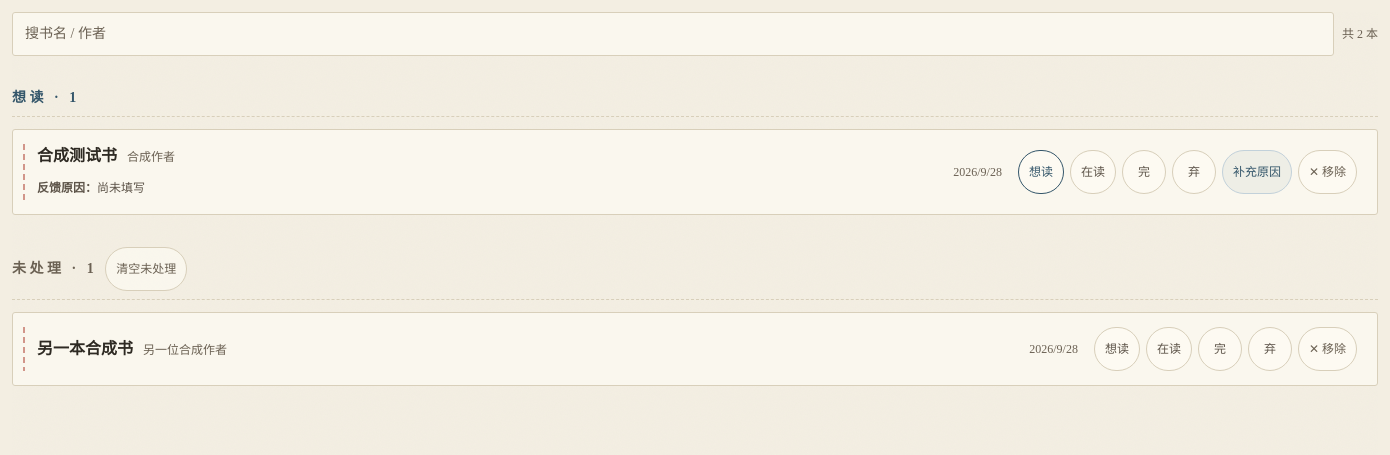
Scenario: 清理未处理:DELETE→重载 › 不离页的清理仍提示条数并重载(行为保留)
The width and height of the screenshot is (1390, 455).
Click the button with aria-label "清空全部未处理推荐".
click(146, 269)  # box [105,247,187,291]
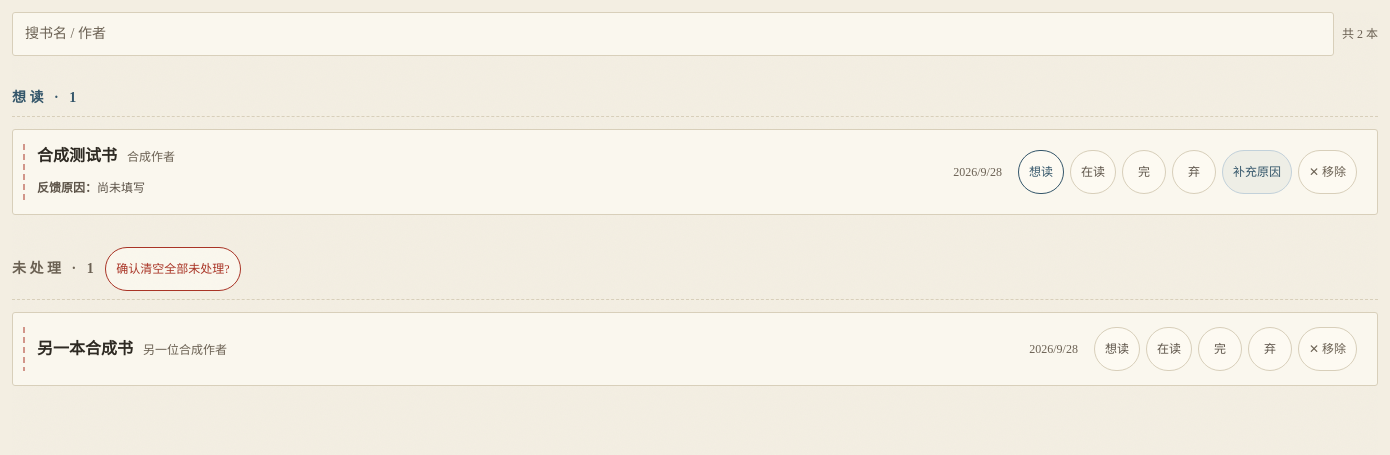
Click the button with aria-label "再次点击确认清空全部未处理推荐".
click(173, 269)  # box [105,247,240,291]
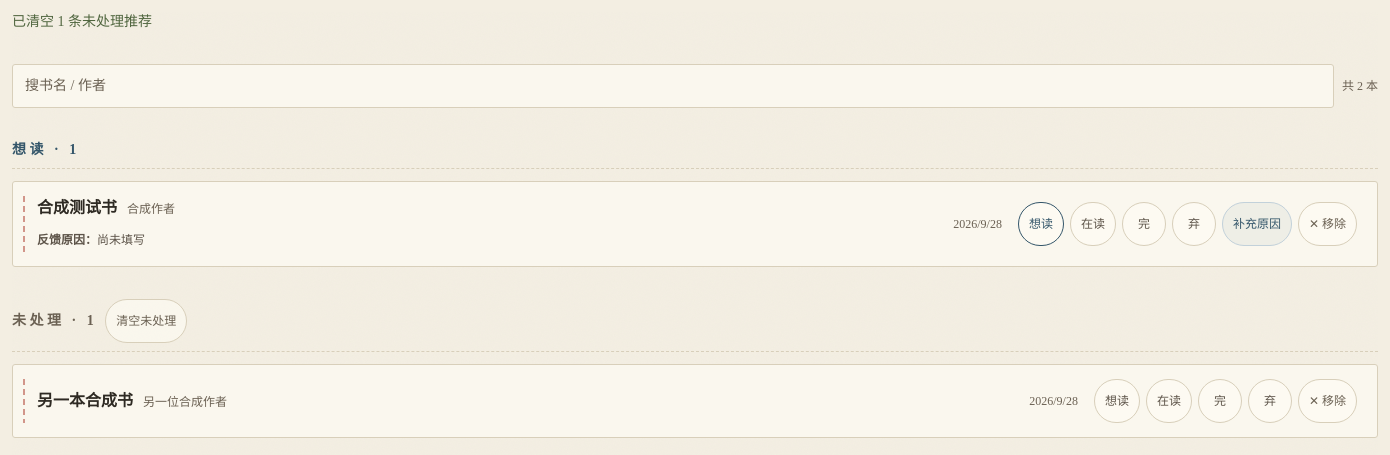
Expected: the message reads "已清空 1 条未处理推荐", [12,14,152,29]
